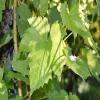grape leaf: (16, 15, 68, 99), (63, 43, 94, 84), (59, 1, 85, 42)
